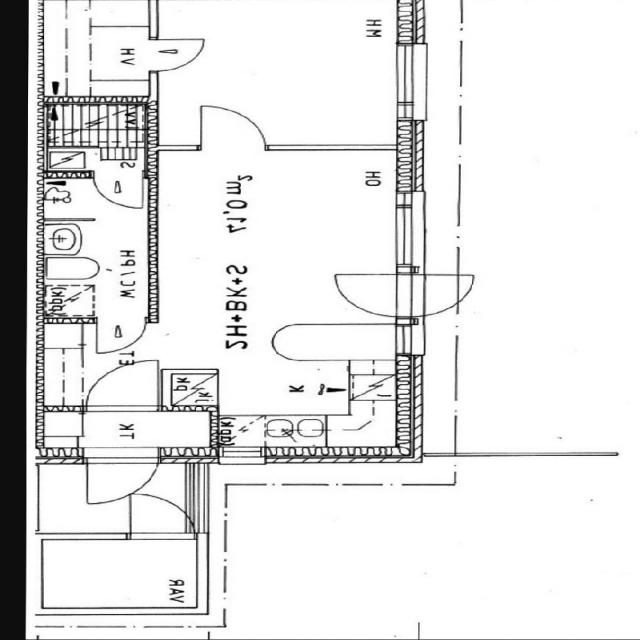door: (88, 446, 158, 508), (86, 358, 158, 411), (333, 275, 424, 316), (397, 275, 487, 316), (200, 102, 266, 150), (132, 491, 194, 539), (94, 170, 142, 210), (148, 39, 207, 71), (96, 318, 146, 354)
